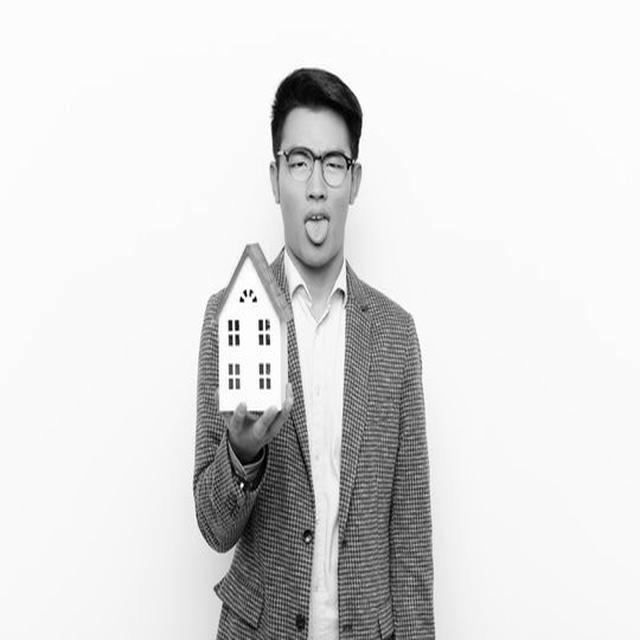Disgust: (278, 106, 352, 270)
